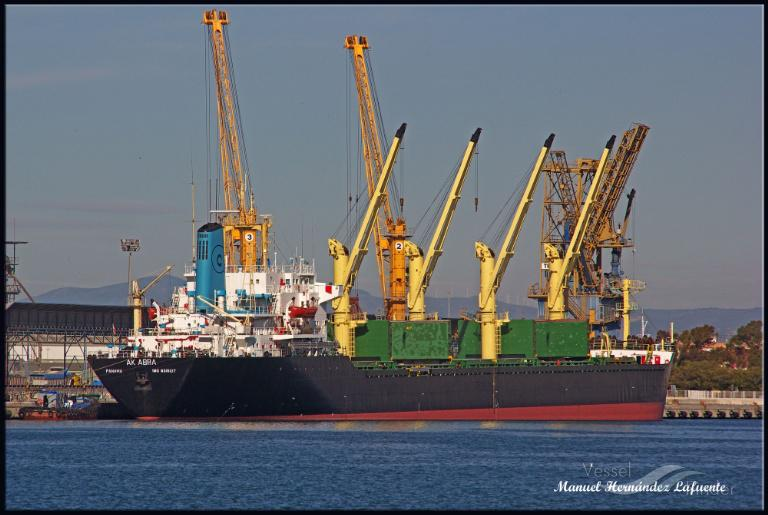OCR: (99, 348, 182, 383)
